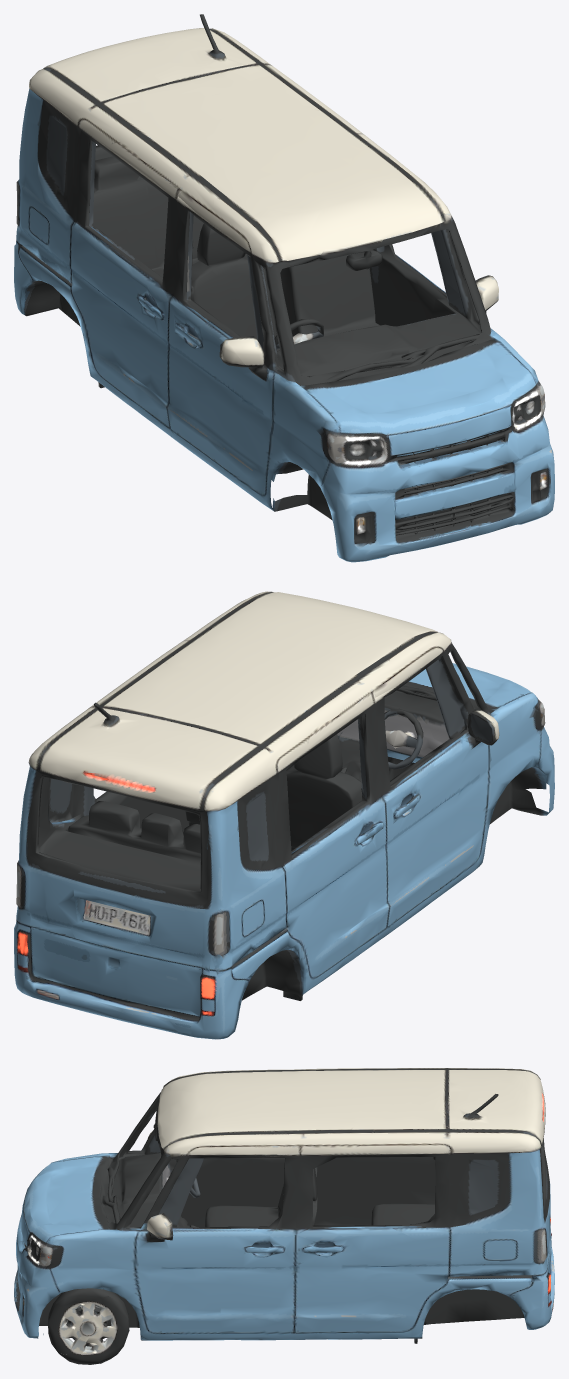
The model's file is kei.glb.
3 renders of one model, top to bottom at view 1: azimuth 30°, elevation 25°; view 2: azimuth 150°, elevation 25°; view 3: azimuth 270°, elevation 25°, orthographic. The views are drawn at different scales.
Parts seen in each view (by area): view 1: body; view 2: body; view 3: body, wheel_FR.
Part boxes in pixels (x1=…): body: x1=14, y1=14, x2=554, y2=562; body: x1=14, y1=591, x2=554, y2=1039; body: x1=14, y1=1068, x2=554, y2=1343; wheel_FR: x1=43, y1=1288, x2=129, y2=1364.
Size of the model in its own units: 1.55 by 1.75 by 3.4.
Materials: 1 (1 with a texture image).
